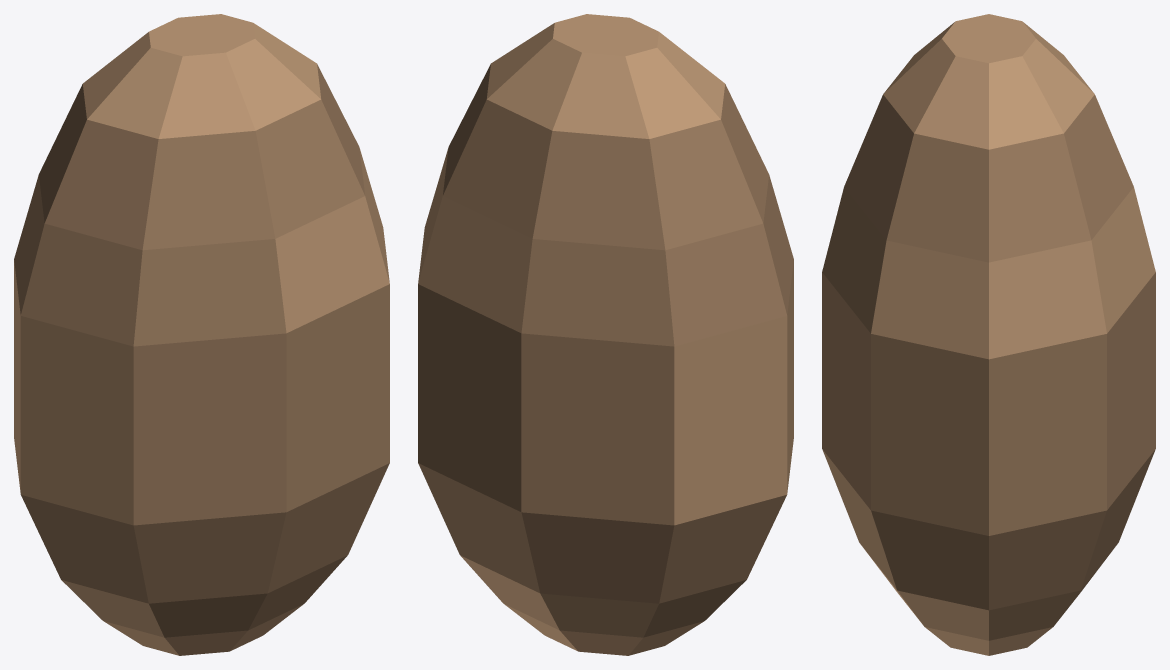
Rendered from Potato.fbx.
The picture shows the model from 3 angles, left to right: view 1: azimuth 30°, elevation 25°; view 2: azimuth 150°, elevation 25°; view 3: azimuth 270°, elevation 25°; orthographic projection.
Parts seen in each view (by area): view 1: Cylinder; view 2: Cylinder; view 3: Cylinder.
Part boxes in pixels (bbox=[...]): Cylinder: bbox=[14, 14, 389, 655]; Cylinder: bbox=[418, 14, 793, 655]; Cylinder: bbox=[822, 14, 1155, 655].
Size of the model in its own units: 228 by 359 by 184.
